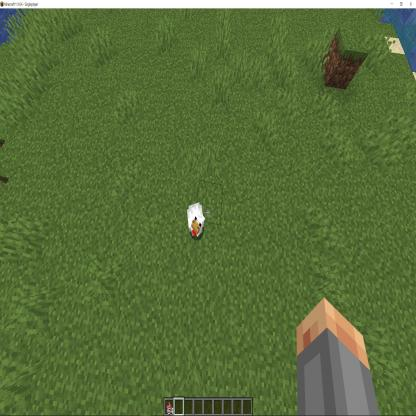minecraft-pigs: (186, 202, 206, 244)
